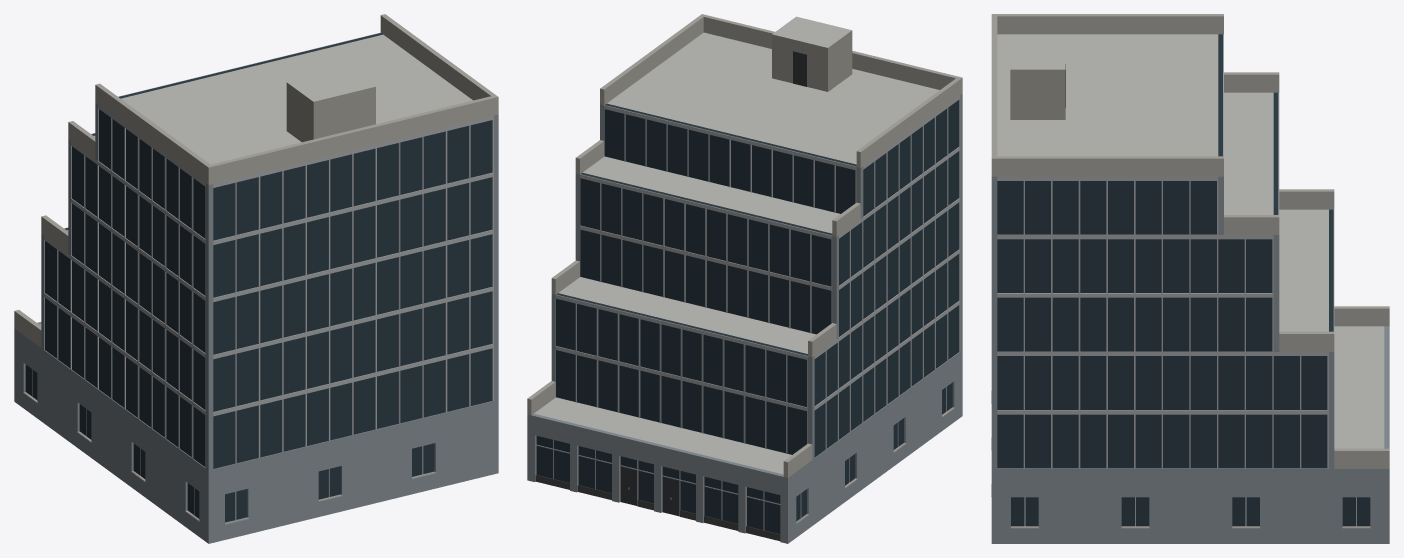
The model's file is bld_t4_sixstorey_office.glb.
The picture shows the model from 3 angles, left to right: view 1: azimuth 30°, elevation 25°; view 2: azimuth 150°, elevation 25°; view 3: azimuth 270°, elevation 25°; orthographic projection. The views are drawn at different scales.
Visible parts, largest first — view 1: bld_t4_sixstorey_office-col; view 2: bld_t4_sixstorey_office-col; view 3: bld_t4_sixstorey_office-col.
Boxes of the visible parts, left/top/right/bottom form: bld_t4_sixstorey_office-col: left=14, top=14, right=498, bottom=543; bld_t4_sixstorey_office-col: left=527, top=14, right=962, bottom=543; bld_t4_sixstorey_office-col: left=991, top=14, right=1389, bottom=543.
Bounding box in the file's own units: 18.66 × 25 × 21.63.
